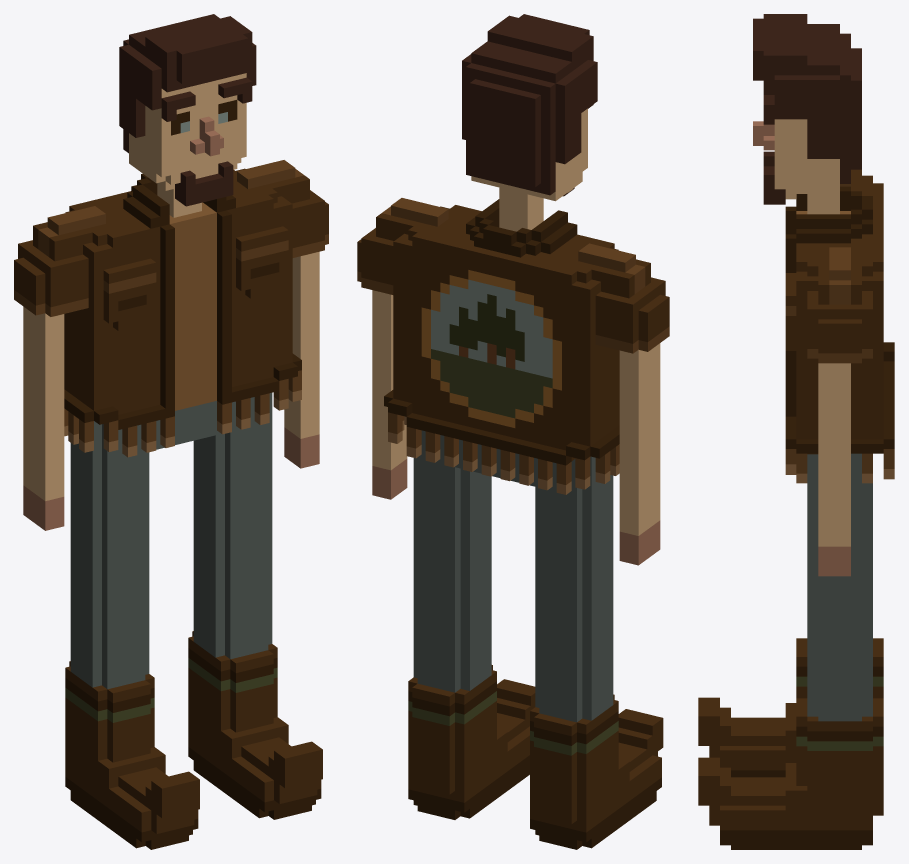
Rendered from long_man01obj.obj.
3 renders of one model, left to right at view 1: azimuth 30°, elevation 25°; view 2: azimuth 150°, elevation 25°; view 3: azimuth 270°, elevation 25°, orthographic.
Size of the model in its own units: 31 by 78 by 18.
1 material, 1 textured.
